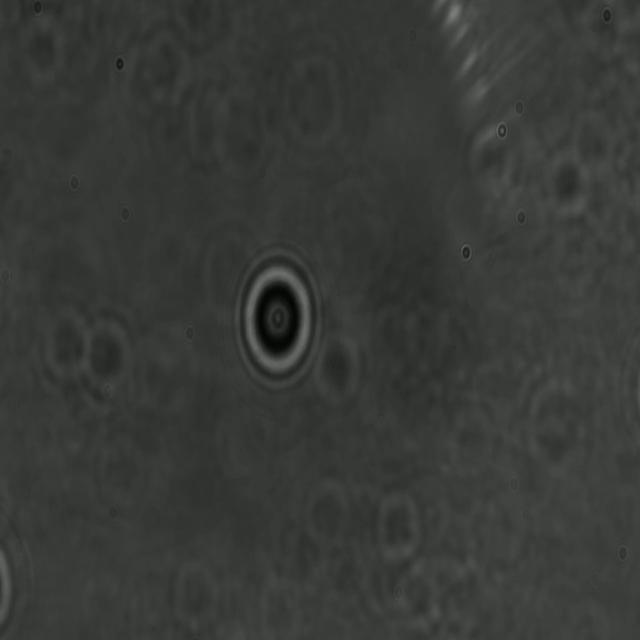LCELL: (231, 244, 327, 397)
